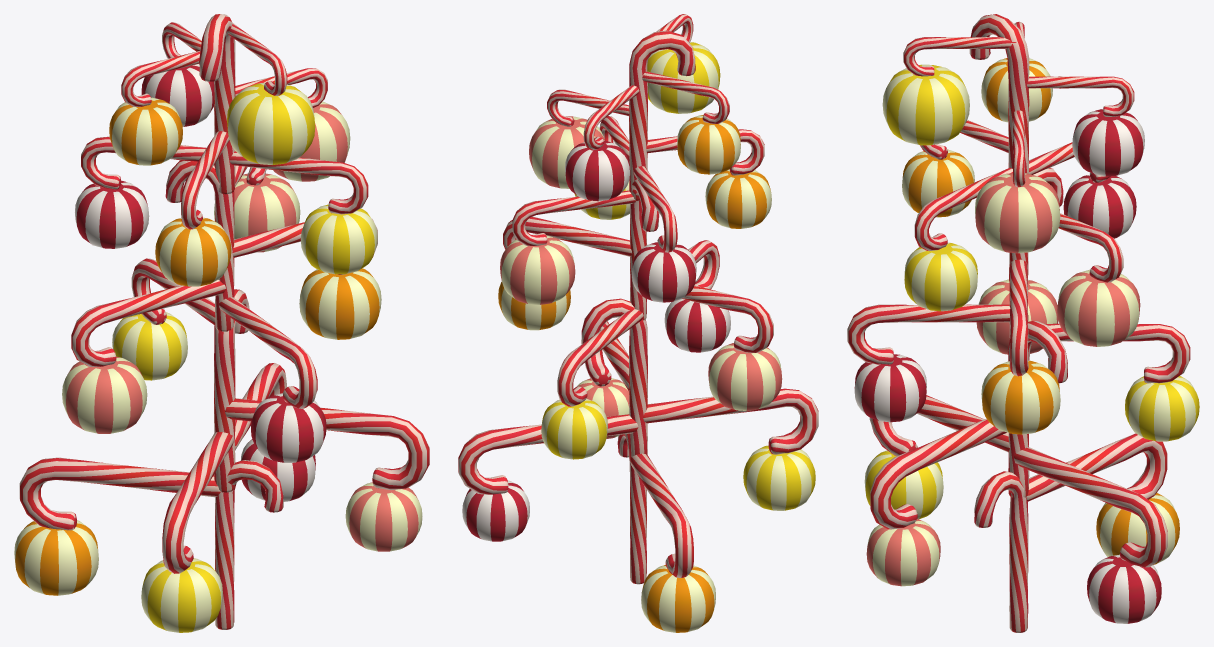
The model's file is cw_tree_11.fbx.
The picture shows the model from 3 angles, left to right: view 1: azimuth 30°, elevation 25°; view 2: azimuth 150°, elevation 25°; view 3: azimuth 270°, elevation 25°; orthographic projection. The views are drawn at different scales.
Visible parts, largest first — view 1: cw_t_11; view 2: cw_t_11; view 3: cw_t_11.
Boxes of the visible parts, x1,y1,x2,y2 form: cw_t_11: (14, 14, 429, 632); cw_t_11: (458, 14, 818, 632); cw_t_11: (847, 14, 1199, 632).
Bounding box in the file's own units: 101 × 193 × 102.
